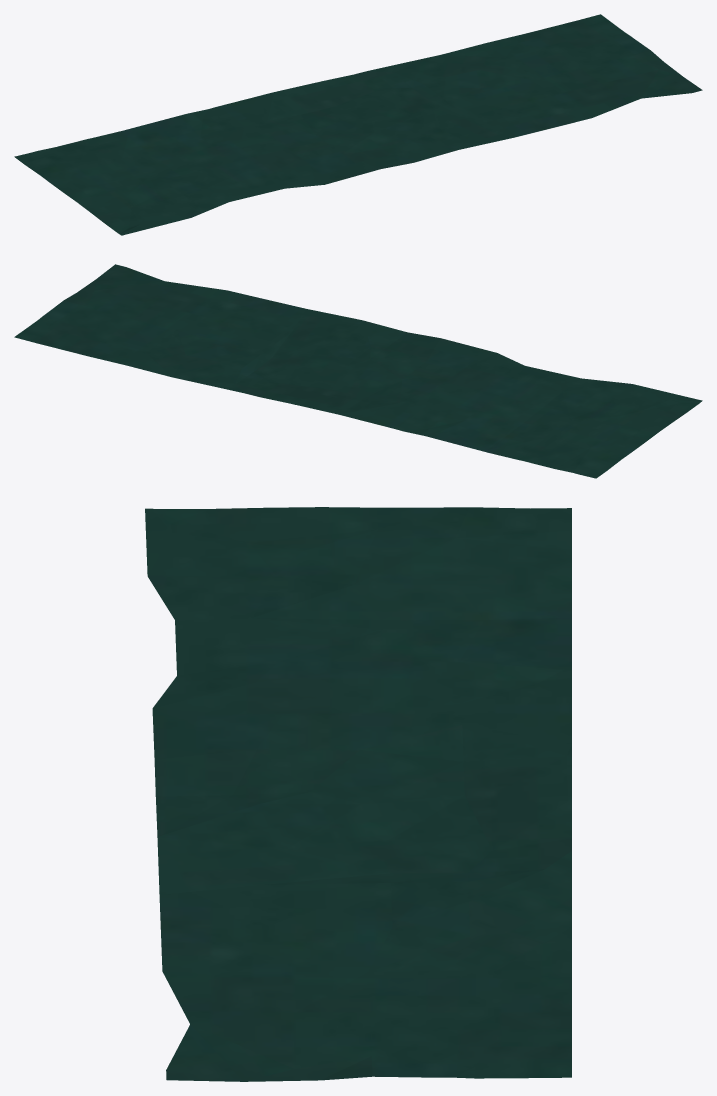
The picture shows the model from 3 angles, top to bottom: view 1: azimuth 30°, elevation 25°; view 2: azimuth 150°, elevation 25°; view 3: azimuth 270°, elevation 25°; orthographic projection. The views are drawn at different scales.
Size of the model in its own units: 52.22 by 0.3786 by 16.58.
Materials: 1 (1 with a texture image).
